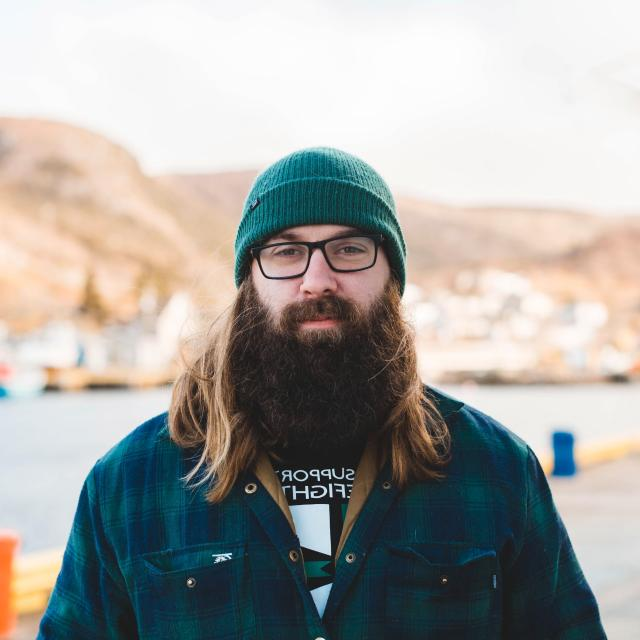adult: (28, 148, 602, 640)
